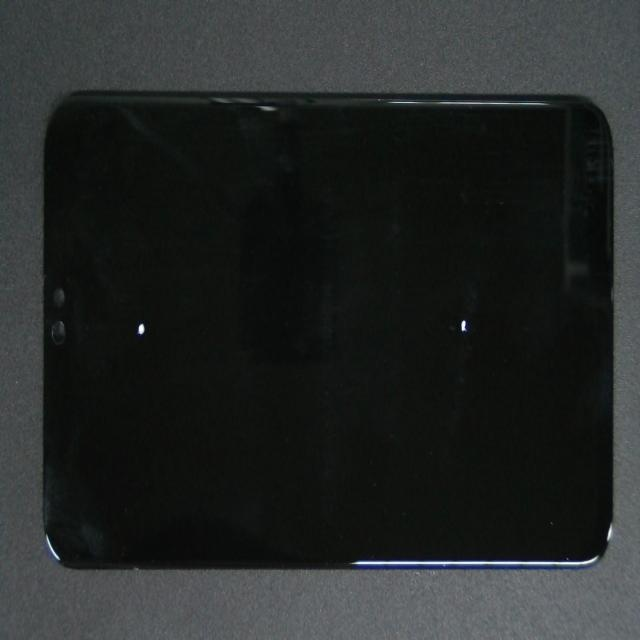stain: (250, 128, 640, 448), (74, 141, 206, 471)
